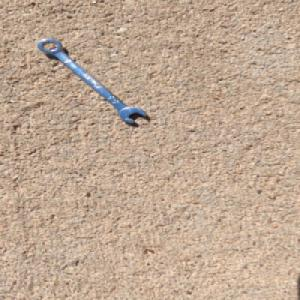Wrench: (36, 37, 149, 124)
